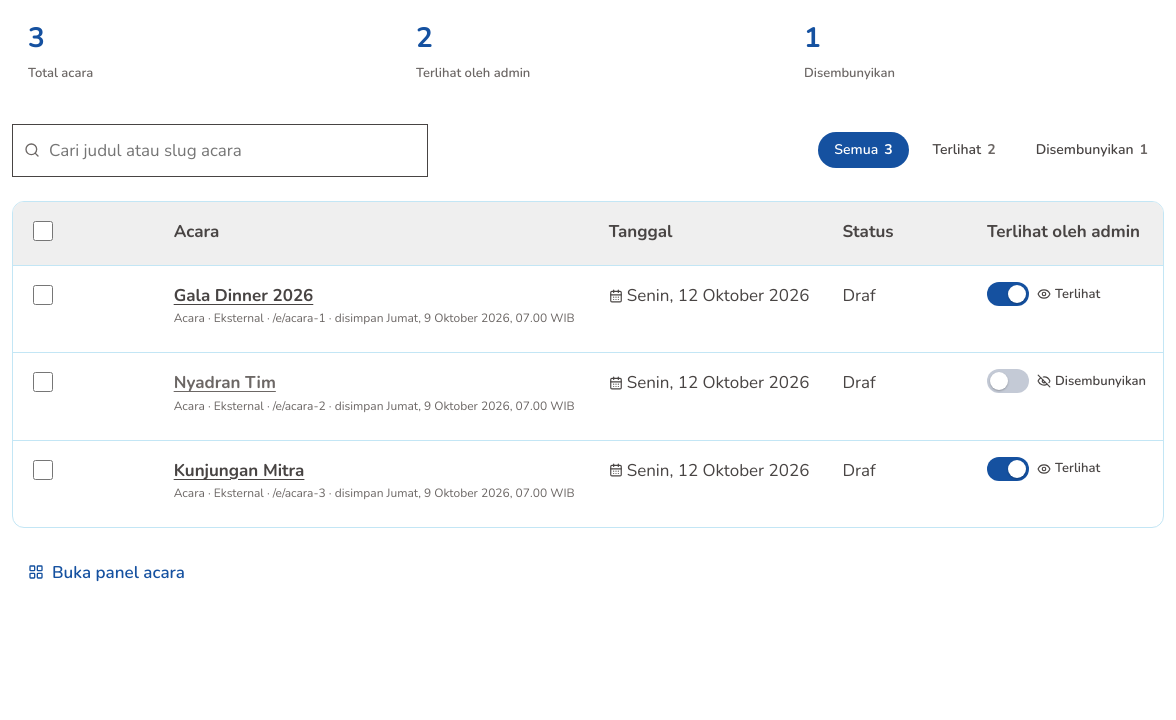
Test case: counts, searches, and filters events by visibility
The width and height of the screenshot is (1176, 720).
Expected: the list items read "3Total acara", "2Terlihat oleh admin", "1Disembunyikan", in this order, x1=12 y1=0 x2=388 y2=100; x1=400 y1=0 x2=776 y2=100; x1=788 y1=0 x2=1164 y2=100
Click the button "Disembunyikan 1": [1092, 150] box x1=1020 y1=132 x2=1164 y2=168
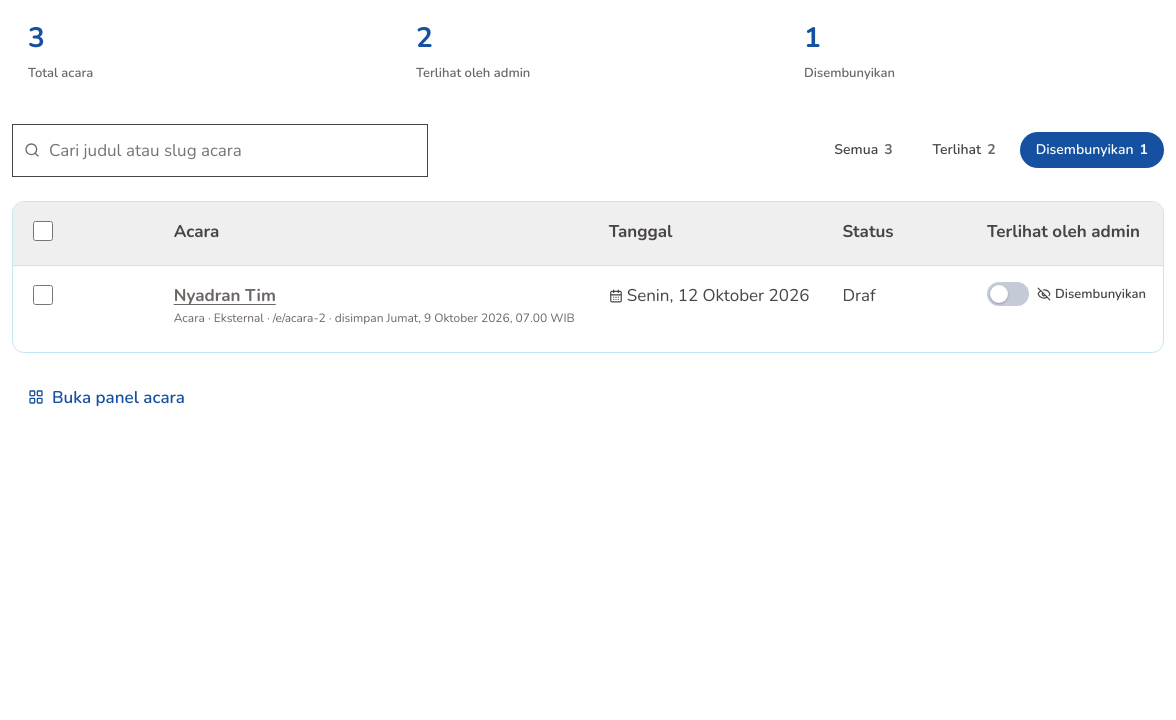
Expected: the link "Nyadran Tim" is shown, x1=174 y1=284 x2=276 y2=307
Expected: the link "Gala Dinner 2026" is gone
Click the button "Semua 3": [863, 150] box x1=818 y1=132 x2=909 y2=168
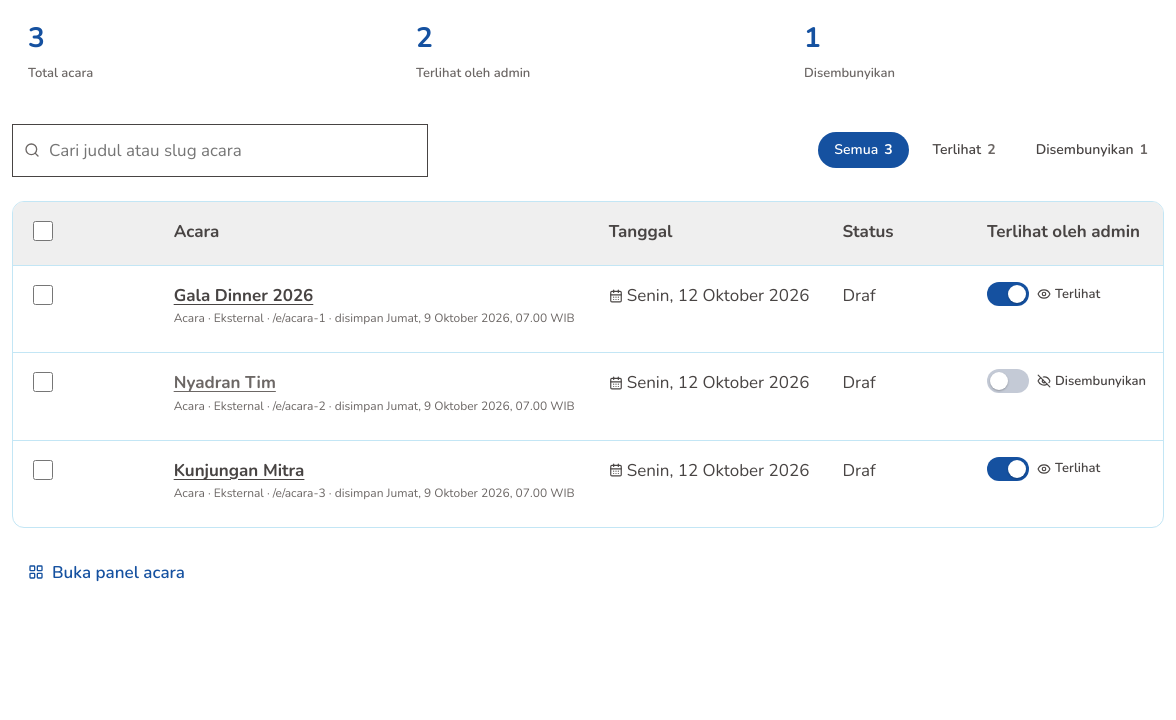
In the search field named "Cari acara": [220, 150] box x1=12 y1=124 x2=428 y2=177, type "gala"
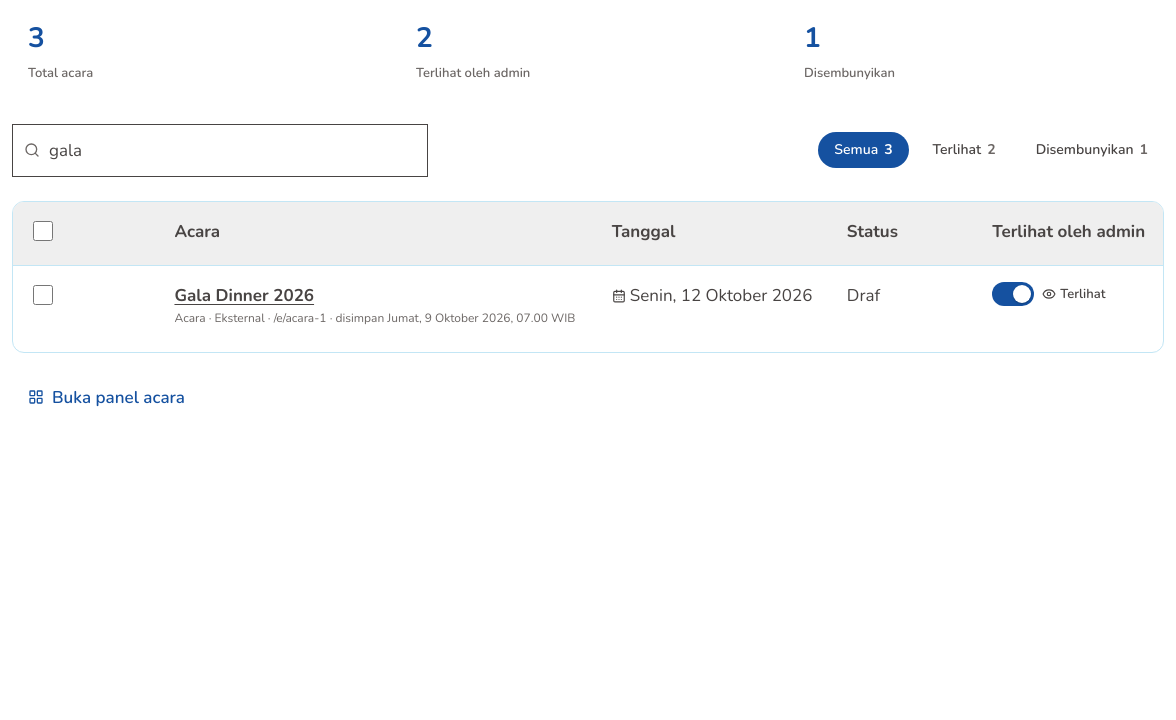
Expected: the number of rows is 2, x1=13 y1=202 x2=1163 y2=266; x1=13 y1=266 x2=1163 y2=352
